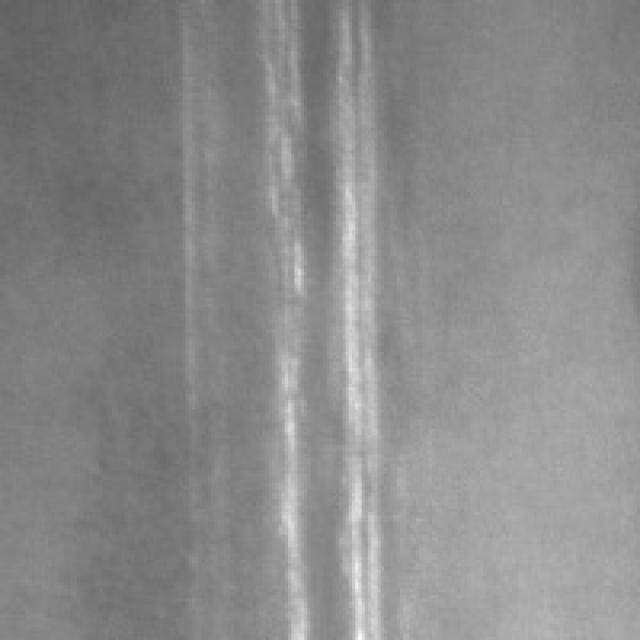scratches: (333, 0, 397, 630), (250, 0, 314, 630), (179, 38, 227, 381)
